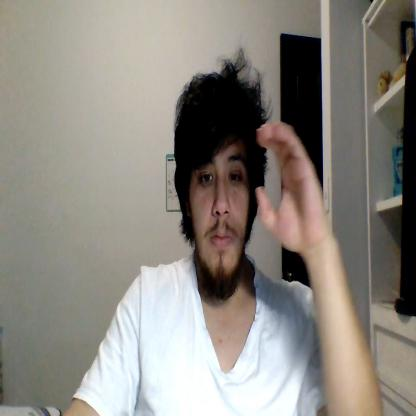C: (256, 121, 327, 252)
